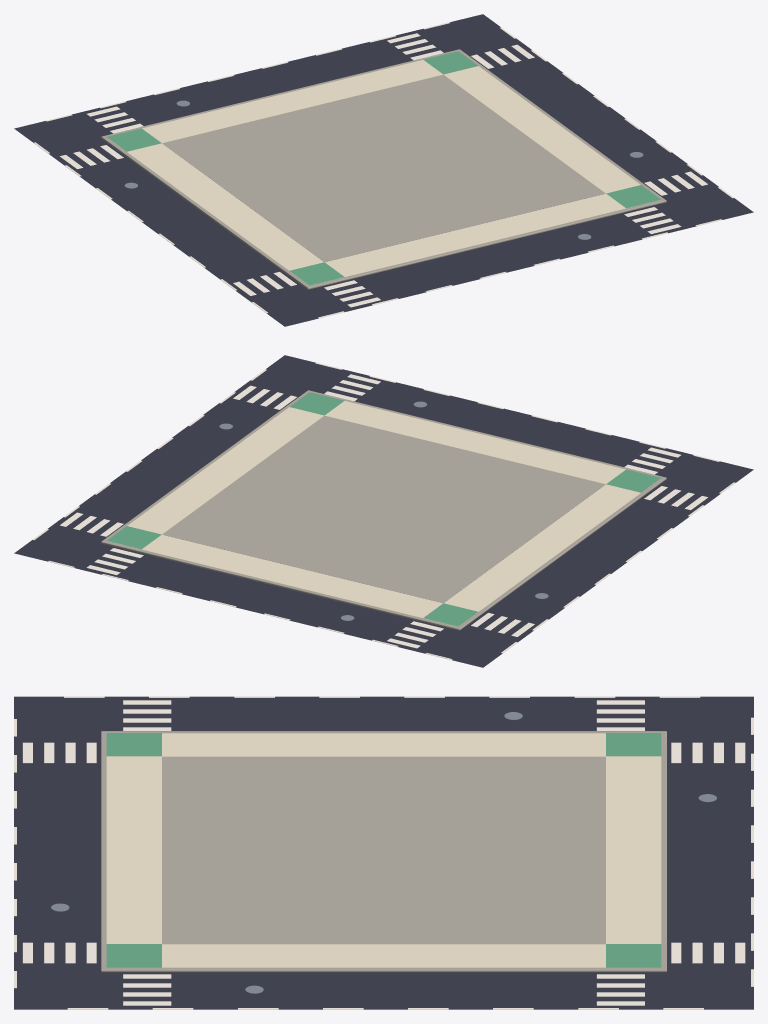
The model's file is tile_lot.glb.
3 renders of one model, top to bottom at view 1: azimuth 30°, elevation 25°; view 2: azimuth 150°, elevation 25°; view 3: azimuth 270°, elevation 25°, orthographic. The views are drawn at different scales.
Visible parts, largest first — view 1: tile_lot; view 2: tile_lot; view 3: tile_lot.
Part boxes in pixels (box(x1,y1,x2,y2)): tile_lot: box(14, 14, 753, 326); tile_lot: box(14, 355, 753, 667); tile_lot: box(14, 696, 753, 1009).
Bounding box in the file's own units: 40 × 0.1709 × 40.
1 material, 1 textured.
